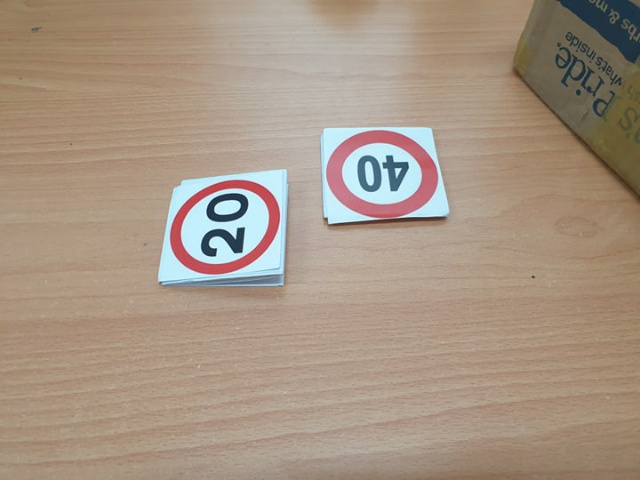Limit 20: (169, 185, 281, 269)
Limit 40: (324, 128, 439, 221)
